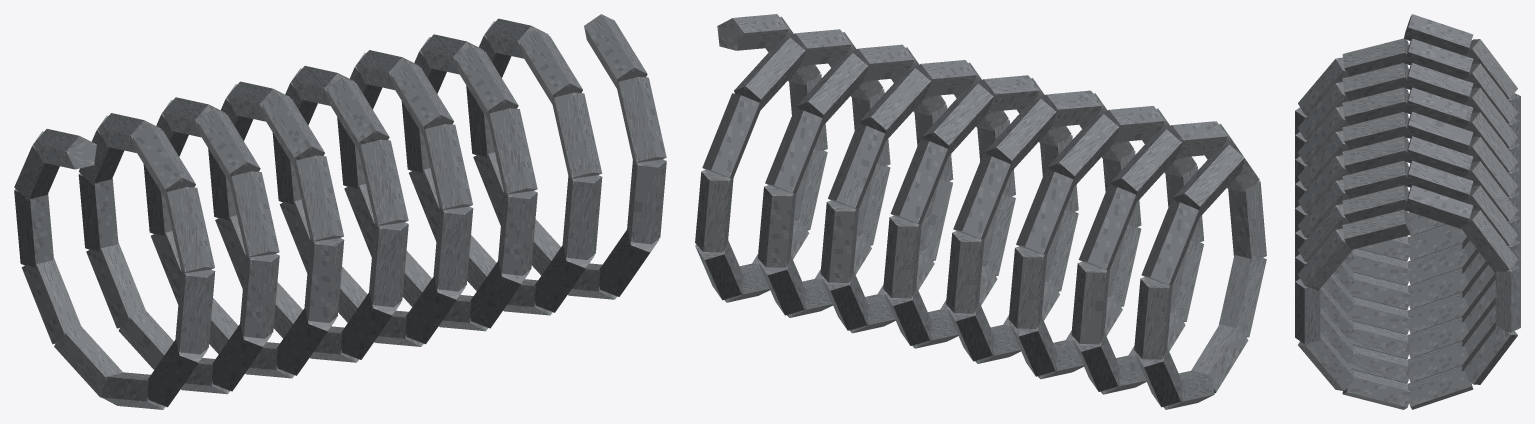
Rendered from spring.glb.
The picture shows the model from 3 angles, left to right: view 1: azimuth 30°, elevation 25°; view 2: azimuth 150°, elevation 25°; view 3: azimuth 270°, elevation 25°; orthographic projection. The views are drawn at different scales.
Visible parts, largest first — view 1: block_c1-1, block_c4-1, block_c6-1, block_c2-1, block_c3-1, block_c5-1, block_c7-1, block_c0-1, block_c7-2, block_c0-2, block_c3-2, block_c5-2 (+62 smaller); view 2: block_c3-8, block_c5-8, block_c6-8, block_c2-8, block_c1-8, block_c0-8, block_c4-8, block_c7-8, block_c7-7, block_c1-7, block_c3-7, block_c4-7 (+61 smaller); view 3: block_c0-0, block_c0-9, block_c0-8, block_c0-5, block_c0-6, block_c0-4, block_c0-1, block_c0-7, block_c7-9, block_c6-0, block_c7-0, block_c2-0 (+47 smaller).
Part boxes in pixels (x1,y1,x2,y2): block_c1-1: (552, 92, 602, 178); block_c4-1: (358, 139, 408, 226); block_c6-1: (229, 171, 279, 257); block_c2-1: (487, 108, 537, 194); block_c3-1: (423, 124, 472, 210); block_c5-1: (294, 155, 343, 241); block_c7-1: (165, 187, 214, 273); block_c0-1: (616, 77, 666, 163); block_c7-2: (175, 269, 215, 354); block_c0-2: (627, 159, 666, 244); block_c3-2: (433, 206, 473, 291); block_c5-2: (304, 238, 344, 322); block_c3-8: (890, 139, 948, 224); block_c5-8: (1016, 169, 1074, 255); block_c6-8: (1078, 185, 1136, 270); block_c2-8: (828, 124, 886, 209); block_c1-8: (765, 108, 823, 193); block_c0-8: (702, 93, 760, 178); block_c4-8: (953, 154, 1011, 239); block_c7-8: (1141, 200, 1199, 285); block_c7-7: (1134, 277, 1172, 359); block_c1-7: (757, 185, 796, 267); block_c3-7: (883, 216, 921, 298); block_c4-7: (946, 231, 984, 313); block_c0-0: (1342, 209, 1411, 249); block_c0-9: (1405, 185, 1473, 229); block_c0-8: (1460, 210, 1517, 272); block_c0-5: (1408, 366, 1473, 409); block_c0-6: (1462, 322, 1517, 384); block_c0-4: (1342, 370, 1410, 409); block_c0-1: (1298, 228, 1352, 290); block_c0-7: (1495, 264, 1520, 332); block_c7-9: (1404, 14, 1473, 54); block_c6-0: (1342, 63, 1408, 100); block_c7-0: (1342, 38, 1408, 76); block_c2-0: (1342, 160, 1408, 198).
Bounding box in the file's own units: 0.2114 × 0.1014 × 0.0976.
1 material, 1 textured.
